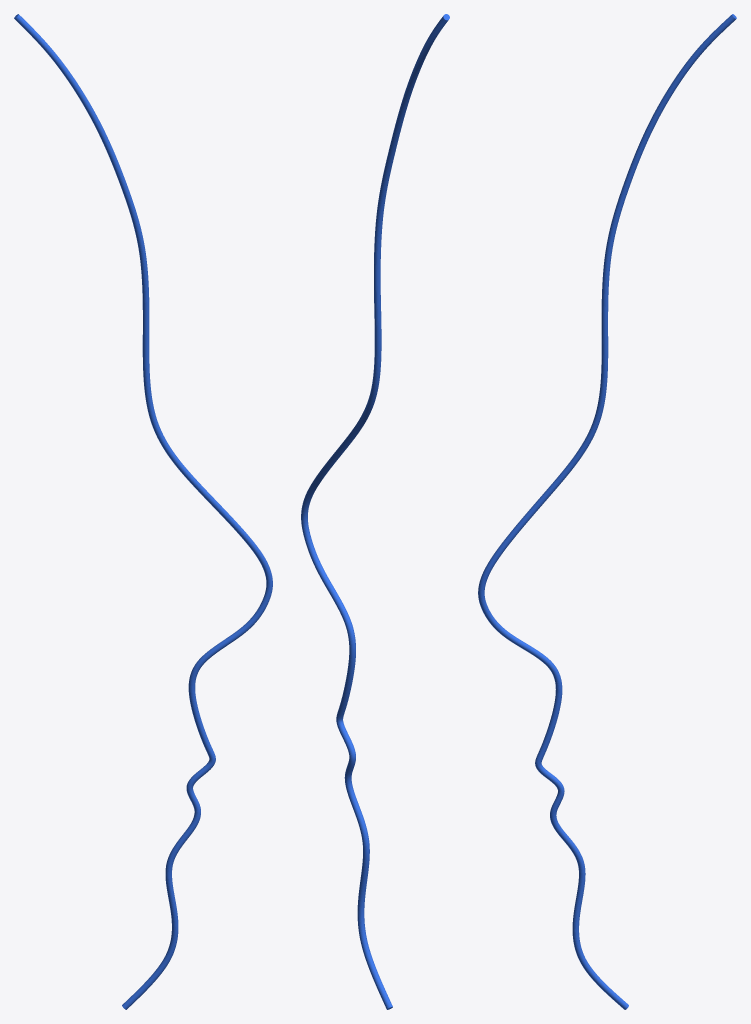
Rendered from faces21 - lineprofile.glb.
The picture shows the model from 3 angles, left to right: view 1: azimuth 90°, elevation 25°; view 2: azimuth 210°, elevation 25°; view 3: azimuth 270°, elevation 25°; orthographic projection. The views are drawn at different scales.
Visible parts, largest first — view 1: Tube; view 2: Tube; view 3: Tube.
Part boxes in pixels (bbox=[...]): Tube: bbox=[14, 14, 272, 1009]; Tube: bbox=[301, 14, 449, 1009]; Tube: bbox=[478, 14, 736, 1009].
Size of the model in its own units: 0.0298 by 1.55 by 0.3645.
